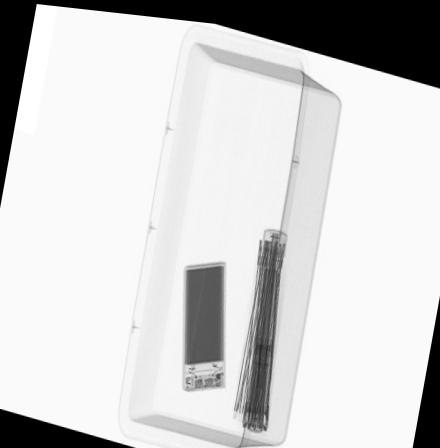Powerbank: (180, 255, 227, 390)
